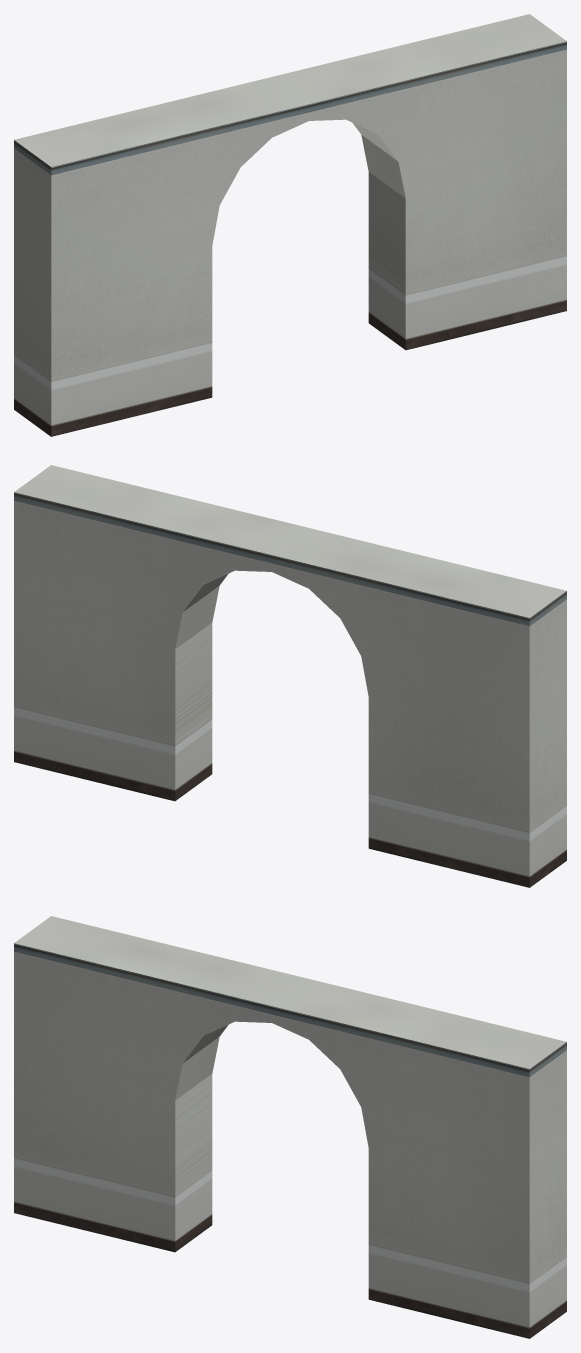
File: SM_wall_entry_room.fbx
3 renders of one model, top to bottom at view 1: azimuth 30°, elevation 25°; view 2: azimuth 150°, elevation 25°; view 3: azimuth 330°, elevation 25°, orthographic.
Visible parts, largest first — view 1: SM_wall_entry_room; view 2: SM_wall_entry_room; view 3: SM_wall_entry_room.
Boxes of the visible parts, x1=… form: SM_wall_entry_room: x1=14, y1=14, x2=566, y2=436; SM_wall_entry_room: x1=14, y1=465, x2=566, y2=887; SM_wall_entry_room: x1=14, y1=916, x2=566, y2=1338.
Bounding box in the file's own units: 800 × 400 × 100.
